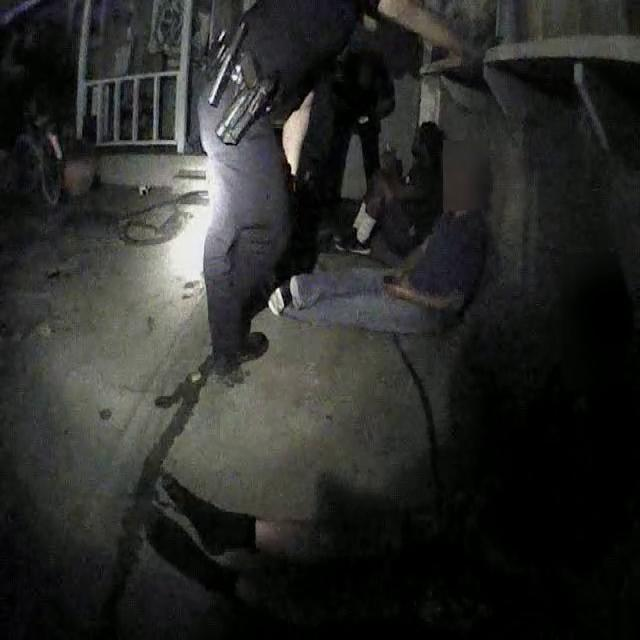gun: (206, 39, 287, 157)
